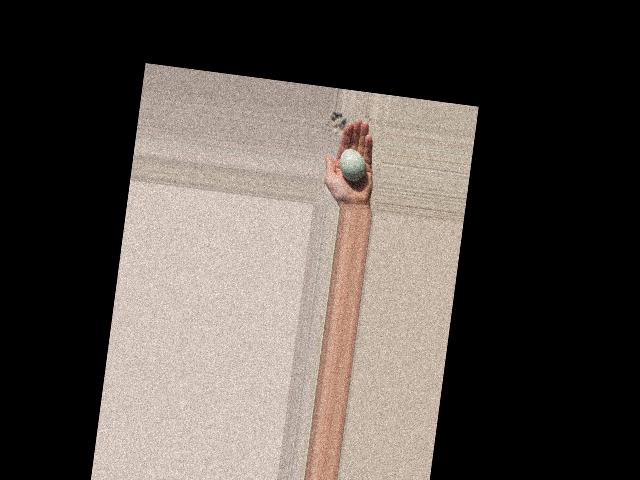egg: (338, 148, 368, 181)
